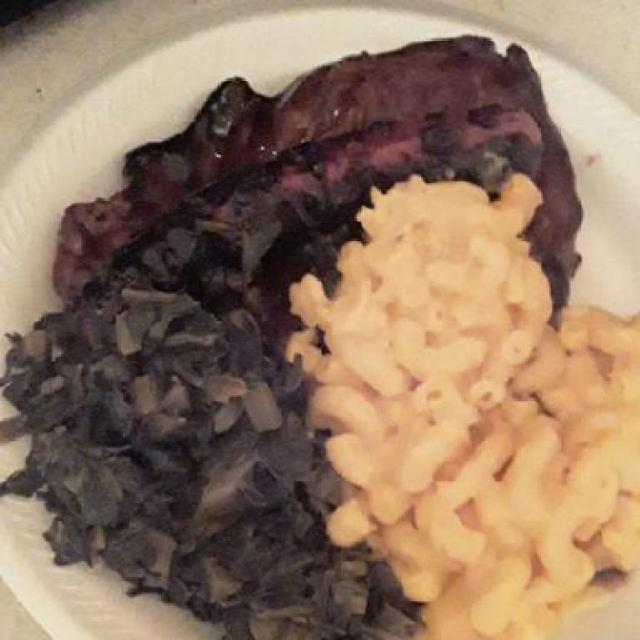hot dog: (49, 84, 548, 222)
macaroni and cheese: (290, 174, 639, 640)
